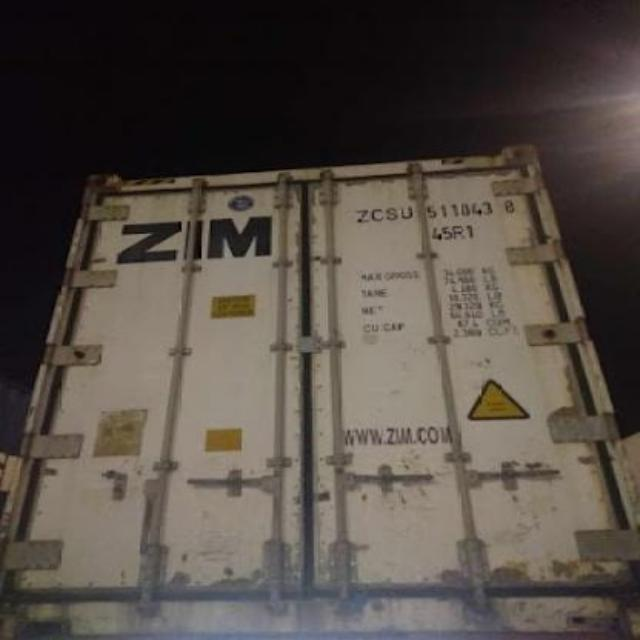0: (458, 201, 472, 221)
1: (446, 203, 462, 219), (436, 205, 452, 218)
3: (482, 200, 494, 216)
4: (470, 201, 482, 217)
5: (426, 204, 442, 220)
8: (502, 200, 516, 212)
C: (374, 208, 384, 222)
S: (384, 208, 400, 222)
U: (398, 206, 416, 222)
Z: (352, 208, 370, 224)
